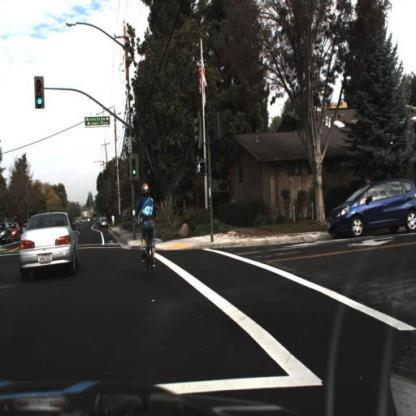biker: (128, 158, 172, 307), (132, 183, 155, 282)
car: (325, 174, 416, 242), (20, 213, 81, 281), (5, 220, 22, 238), (1, 222, 13, 246), (101, 219, 109, 229)
pedestrian: (120, 212, 125, 232), (113, 215, 115, 228)
trafficLight: (131, 156, 138, 179)
